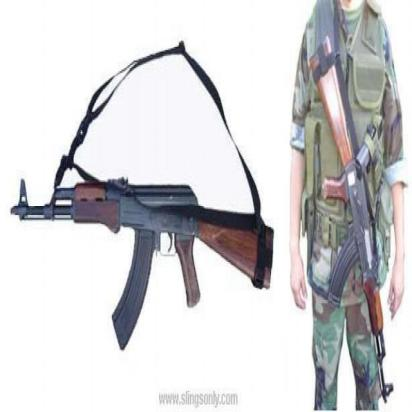Gun: (8, 164, 276, 354), (308, 27, 396, 406)
